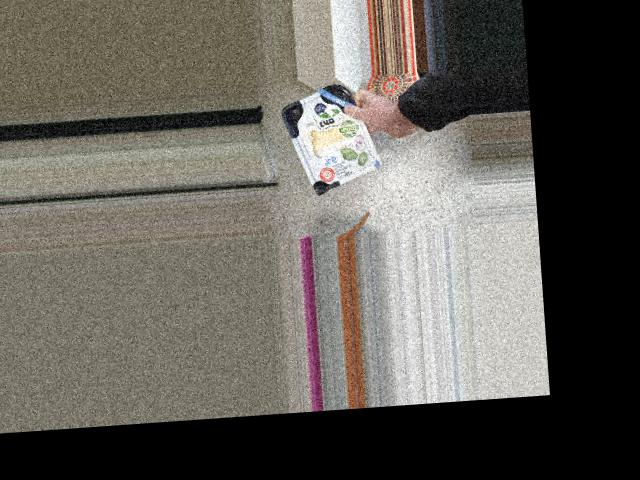cheese: (292, 93, 371, 185)
